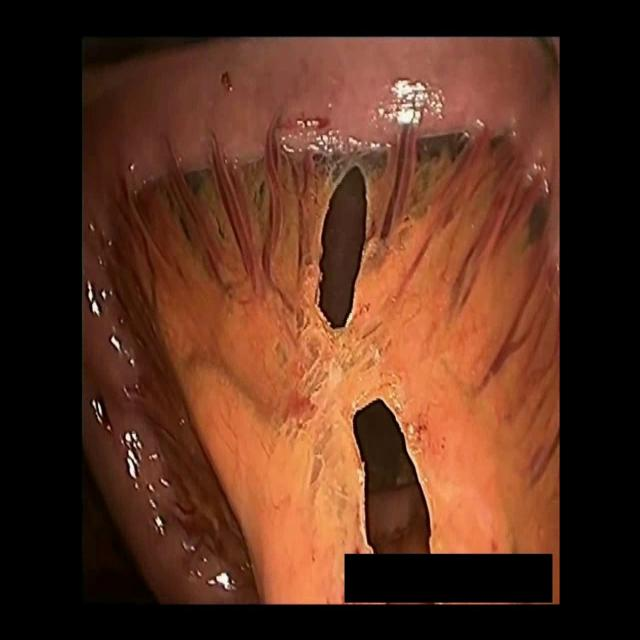surgical-area: (82, 35, 560, 603)
